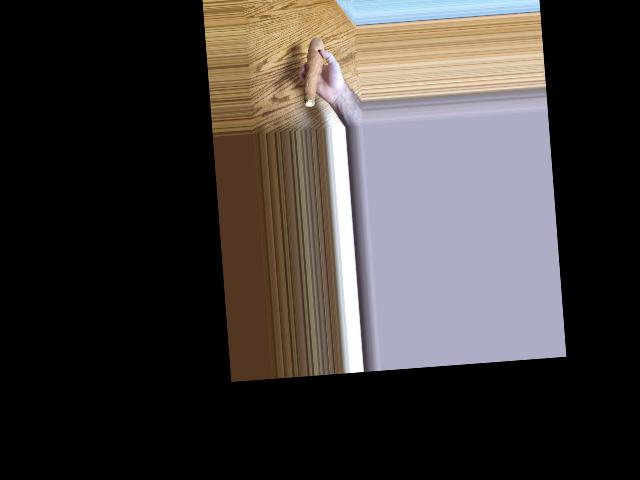sweet_potato: (300, 34, 324, 110)
